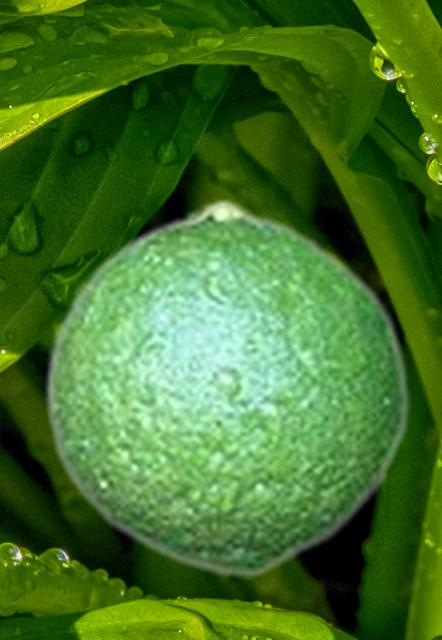dalandan: (41, 197, 410, 578)
